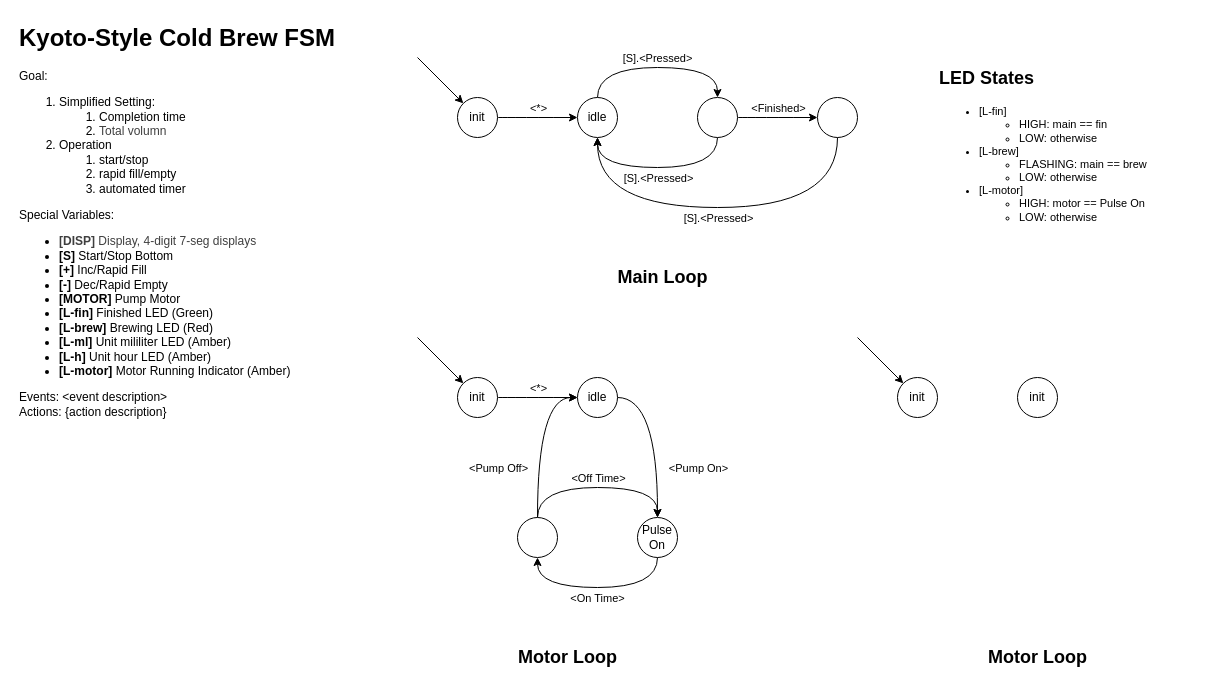
This 1224x694 diagram has some shape labels left out. Each missing label, with the centre of its shape:
brew: the point at 717,117
fin: the point at 837,117
Pulse Off: the point at 537,537
